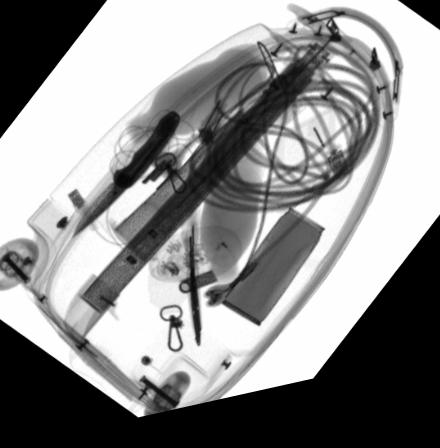Knife: (70, 119, 181, 241)
Scissors: (175, 209, 200, 354)
